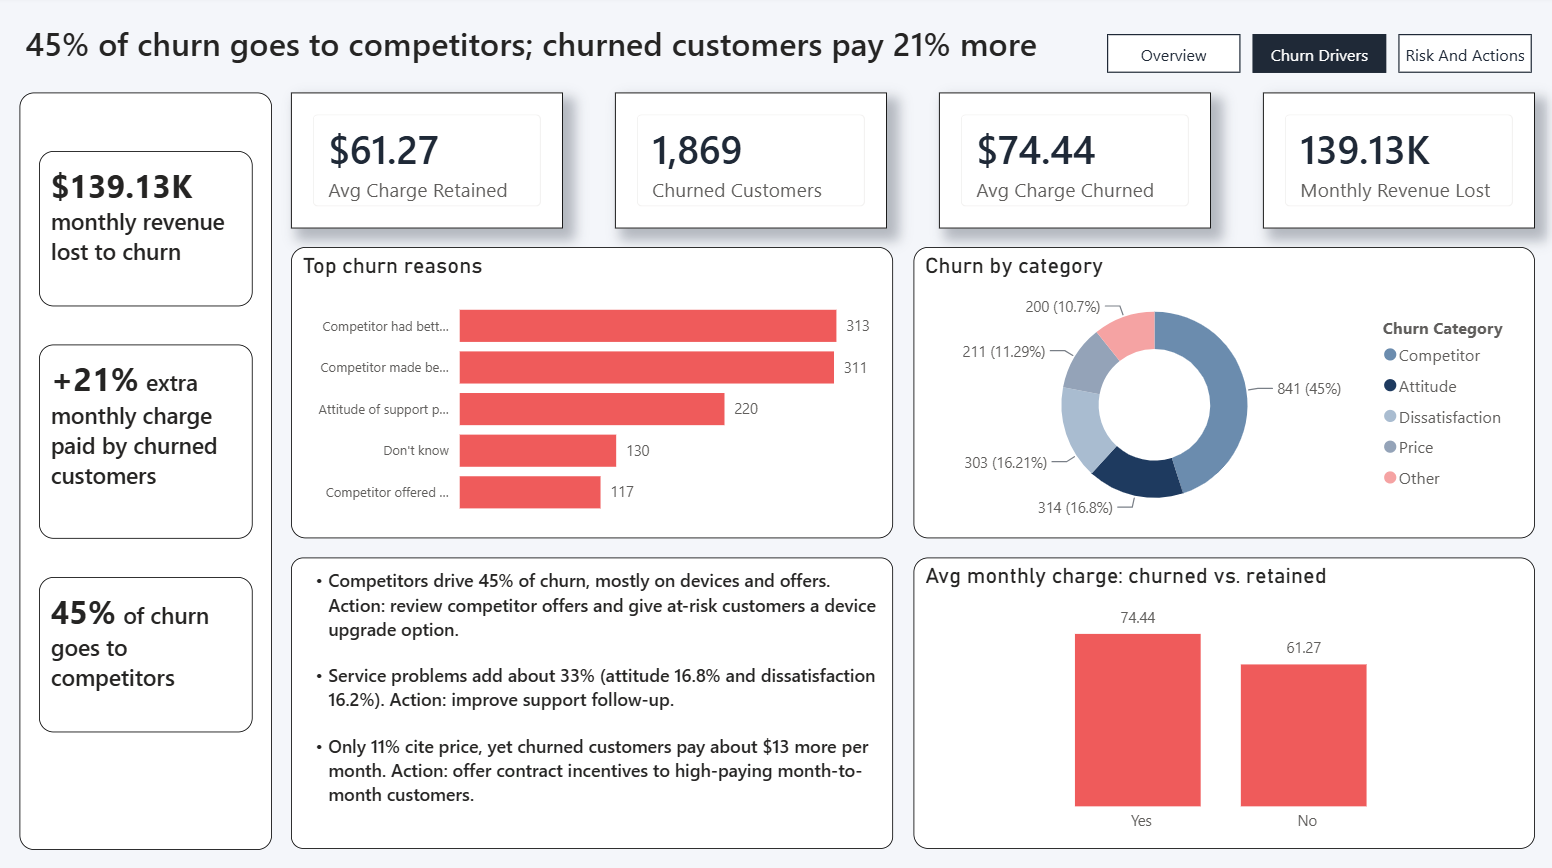

The page's visual inventory and layout, read from the dashboard file:
{"tool":"powerbi","page":{"name":"Churn Drivers","canvas":[1280,720],"ordinal":1},"visuals":[{"type":"textbox","box":[16,16,944,48],"z":0},{"type":"cardVisual","fields":{"Data":["telco.Avg Charge Retained"]},"box":[240,80,224,112],"z":1000},{"type":"cardVisual","fields":{"Data":["telco.Monthly Revenue Lost"]},"box":[1040,80,224,112],"z":2000},{"type":"cardVisual","fields":{"Data":["telco.Churned Customers Display"]},"box":[506.7,80,224,112],"z":3000},{"type":"cardVisual","fields":{"Data":["telco.Avg Charge Churned"]},"box":[773.3,80,224,112],"z":4000},{"type":"clusteredBarChart","title":"Top churn reasons","fields":{"Category":["telco.Churn Reason"],"Y":["telco.Churned Customers"]},"box":[240,208,496,240],"z":5000},{"type":"donutChart","title":"Churn by category","fields":{"Category":["telco.Churn Category"],"Y":["telco.Churned Customers"]},"box":[752,208,512,240],"z":6000},{"type":"clusteredColumnChart","title":"Avg monthly charge: churned vs. retained","fields":{"Category":["telco.Churn Label"],"Y":["Avg(telco.Monthly Charge)"]},"box":[752,464,512,240],"z":7000},{"type":"textbox","box":[240,464,496,240],"z":8000},{"type":"textbox","box":[16,80,208,624],"z":9000},{"type":"textbox","box":[32,128,176,128],"z":10000},{"type":"textbox","box":[32,288,176,160],"z":11000},{"type":"textbox","box":[32,480,176,128],"z":12000},{"type":"pageNavigator","box":[912,32,352,32],"z":13000}]}

Visuals, with their boxes in screenshot pixels (x1, y1, x2, y2), scaled from the page's 1280x720 canvas onto the 1552x868 screenshot:
textbox: locate(19, 19, 1164, 77)
cardVisual - telco.Avg Charge Retained: locate(291, 96, 563, 231)
cardVisual - telco.Monthly Revenue Lost: locate(1261, 96, 1533, 231)
cardVisual - telco.Churned Customers Display: locate(614, 96, 886, 231)
cardVisual - telco.Avg Charge Churned: locate(938, 96, 1209, 231)
"Top churn reasons" clusteredBarChart: locate(291, 251, 892, 540)
"Churn by category" donutChart: locate(912, 251, 1533, 540)
"Avg monthly charge: churned vs. retained" clusteredColumnChart: locate(912, 559, 1533, 849)
textbox: locate(291, 559, 892, 849)
textbox: locate(19, 96, 272, 849)
textbox: locate(39, 154, 252, 309)
textbox: locate(39, 347, 252, 540)
textbox: locate(39, 579, 252, 733)
pageNavigator: locate(1106, 39, 1533, 77)
